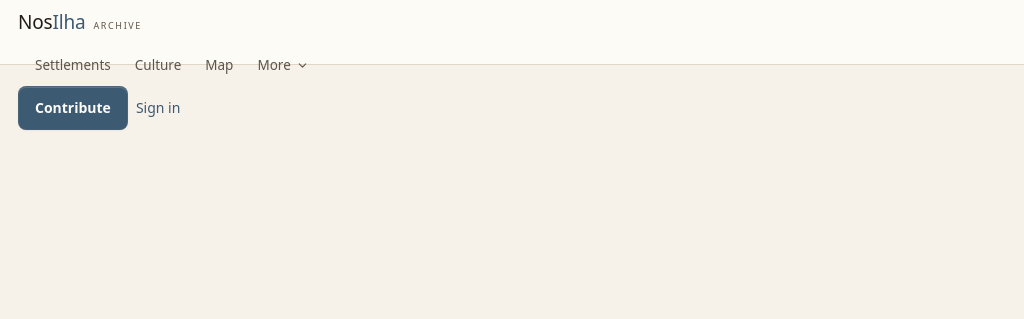
Test case: site chrome top bars › TabletTopBar › More dropdown › puts language and theme after the destinations
The width and height of the screenshot is (1024, 319).
Click the button "More".
click(283, 65)  # box 246,44 -> 320,86
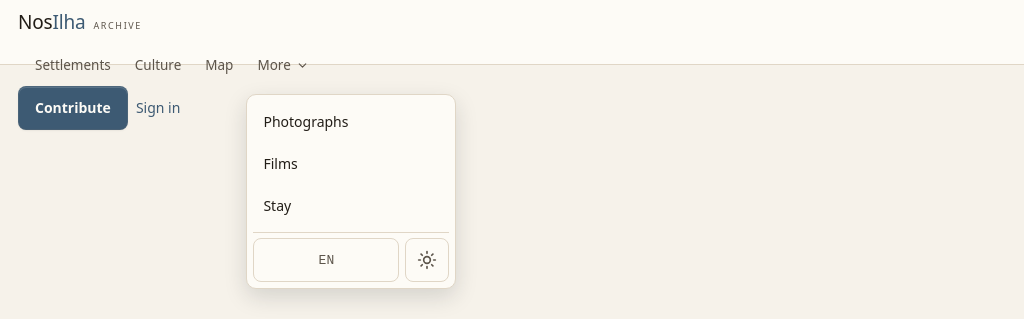
Check: the text "EN" is shown, box 253,238 -> 399,282
Check: the button named "Current theme" is shown, box 405,238 -> 449,282
